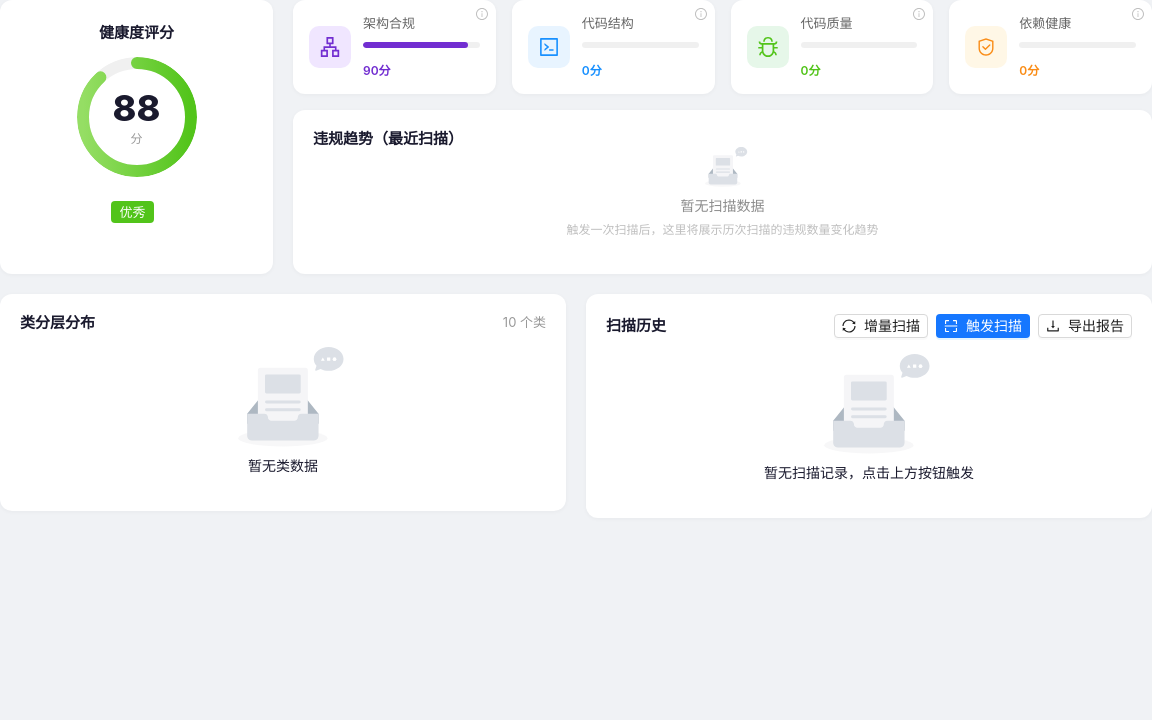
ProjectOverview › subscribeScanProgress_whenProgressMissing_shouldDefaultToZeroPercent
Click the button "触发扫描".
click(983, 326)  # box [936, 314, 1030, 338]
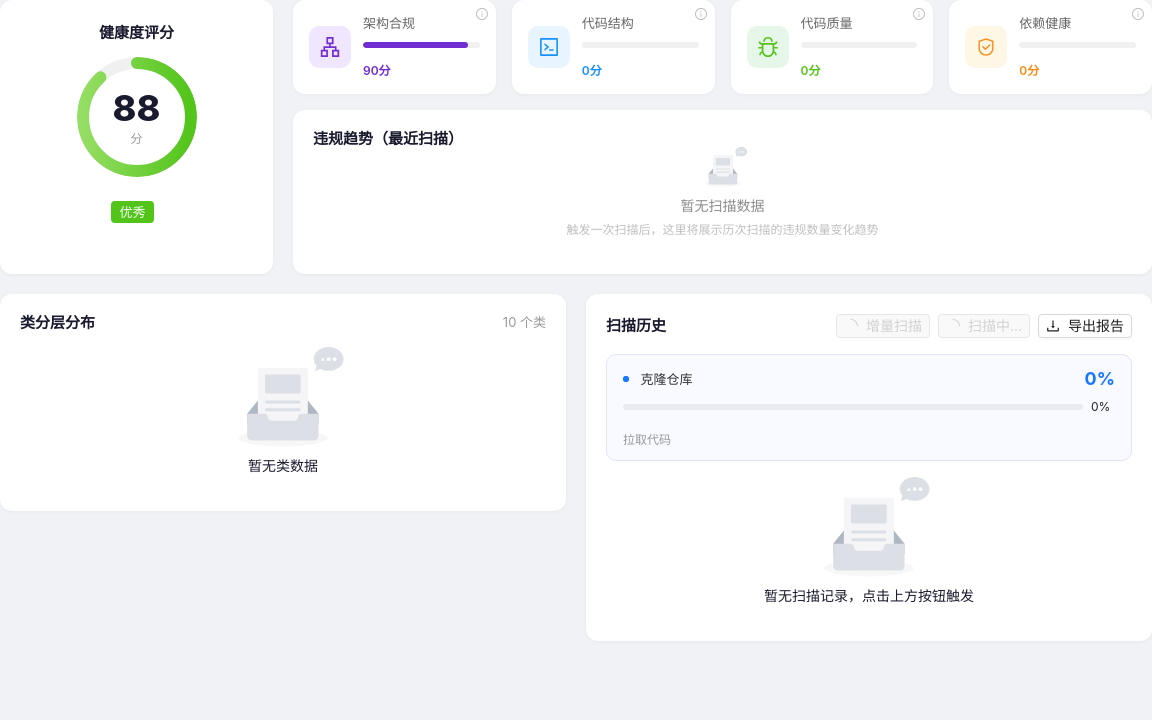
expect the element showing "克隆仓库 0% 0% 拉取代码" is shown: met, box [606, 354, 1132, 461]
expect the element showing "克隆仓库" is shown: met, box [623, 371, 692, 387]
expect the text "0%" in the row of "克隆仓库" is shown: met, box [1085, 368, 1115, 389]
